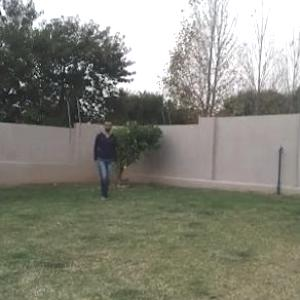follow: (94, 119, 113, 198)
